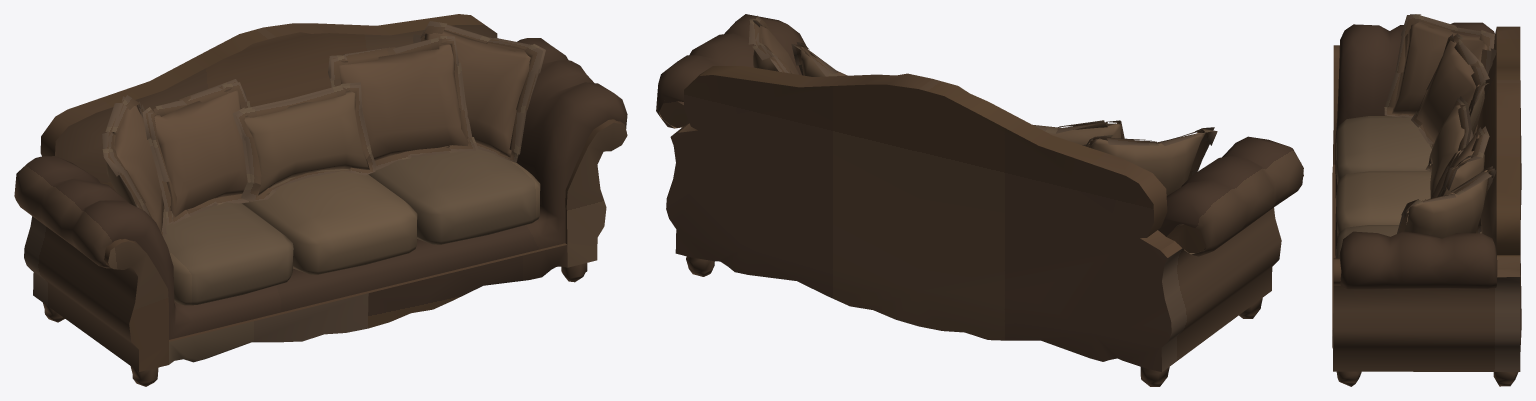
File: ph_sofa_2.glb
The picture shows the model from 3 angles, left to right: view 1: azimuth 30°, elevation 25°; view 2: azimuth 150°, elevation 25°; view 3: azimuth 270°, elevation 25°; orthographic projection. The views are drawn at different scales.
Visible parts, largest first — view 1: ph_sofa_2; view 2: ph_sofa_2; view 3: ph_sofa_2.
Boxes of the visible parts, <box> form: ph_sofa_2: <box>14,14,627,386</box>; ph_sofa_2: <box>656,14,1303,386</box>; ph_sofa_2: <box>1332,14,1521,386</box>.
Bounding box in the file's own units: 2.72 × 1.12 × 0.9244.
2 materials, 2 textured.
